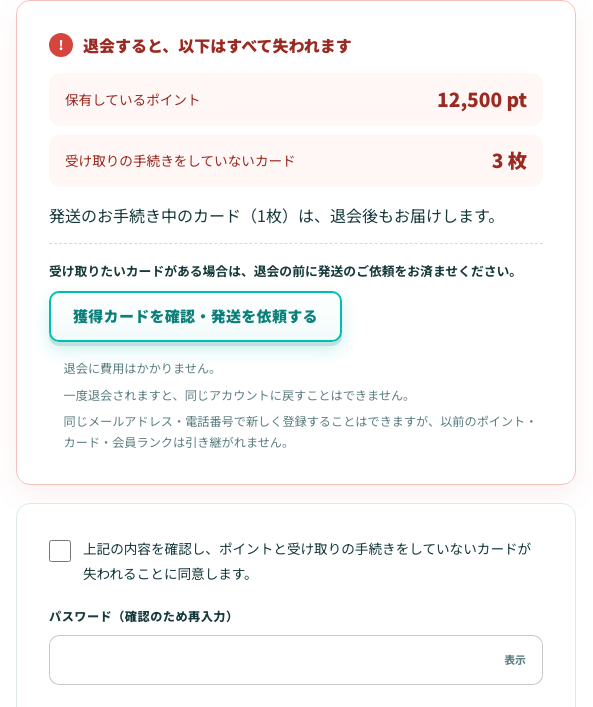
Test case: refreshes STALE numbers and requires new consent
Step 1. Click the checkbox → click(60, 552), box [49, 540, 71, 562]
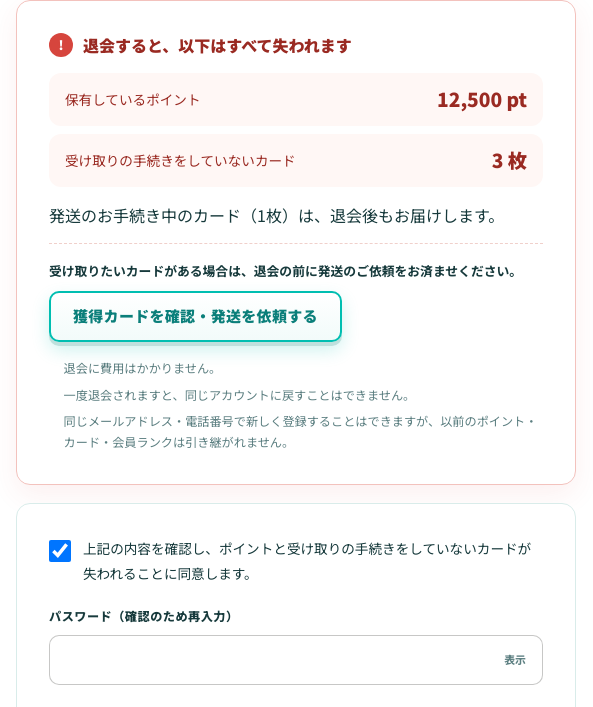
Step 2. Type "fixture-password" into the password field labelled "パスワード（確認のため再入力）" → (296, 660), box [49, 635, 543, 685]
(page scrolled)
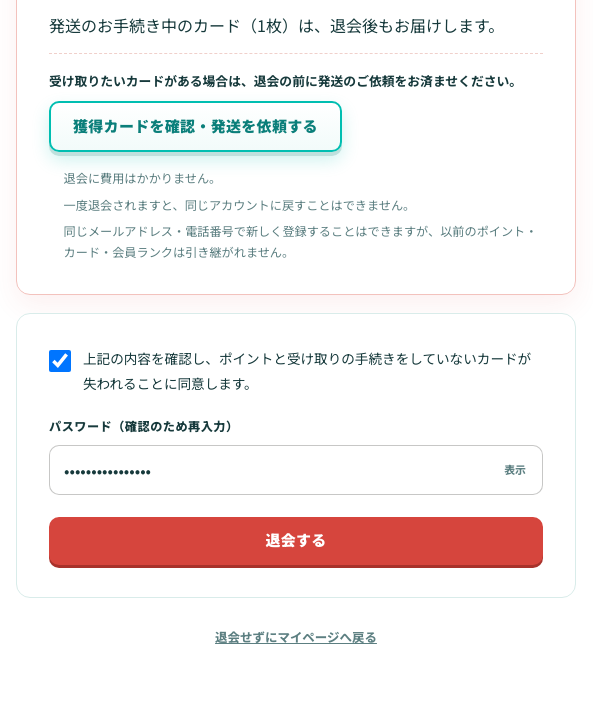
Step 3. Click the button "退会する" → click(296, 541), box [49, 517, 543, 565]
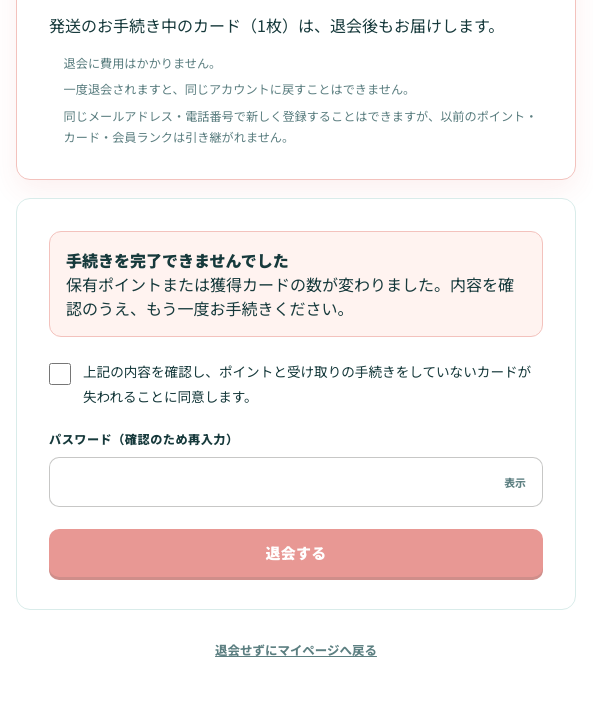
Result: the checkbox is not checked at [49, 363, 71, 385]
Result: the message shows "保有ポイントまたは獲得カードの数が変わりました" at [66, 272, 514, 320]
